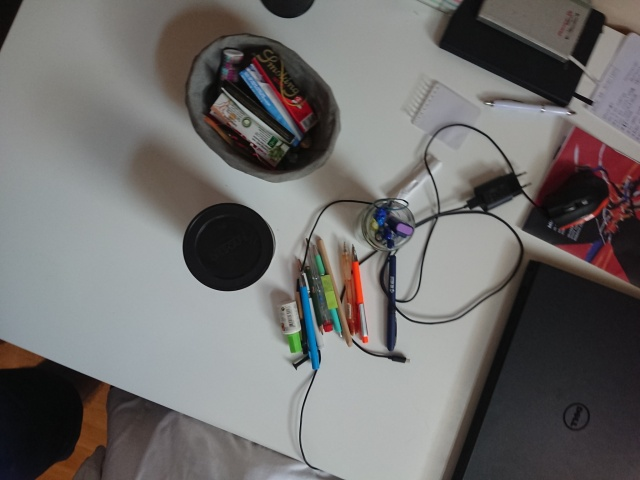Nescafe Classic 225g: (179, 200, 279, 294)
